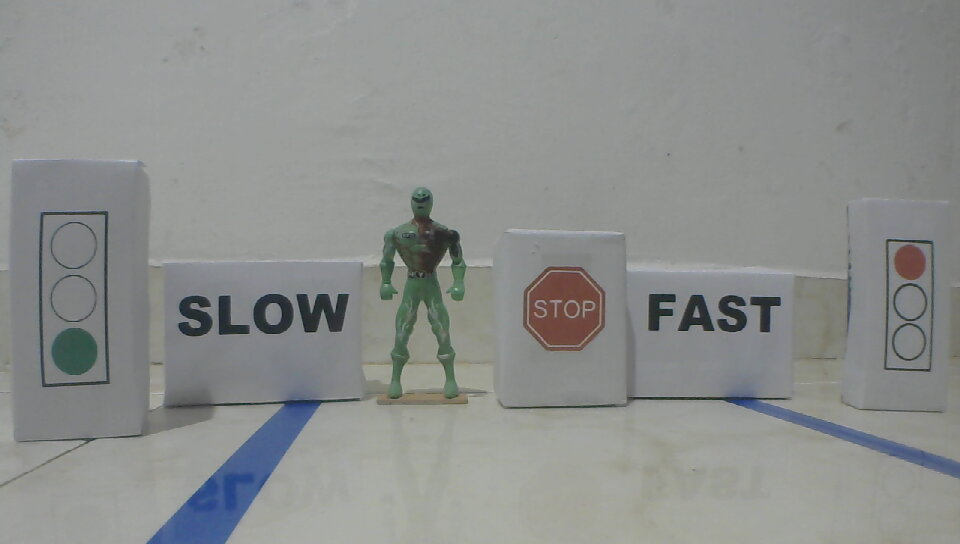Fast: (645, 291, 784, 336)
Green Traffic Light: (38, 209, 112, 390)
Person: (377, 185, 470, 403)
Red Traffic Light: (882, 237, 936, 374)
Slow: (178, 292, 354, 338)
Stop Sign: (519, 264, 607, 352)
